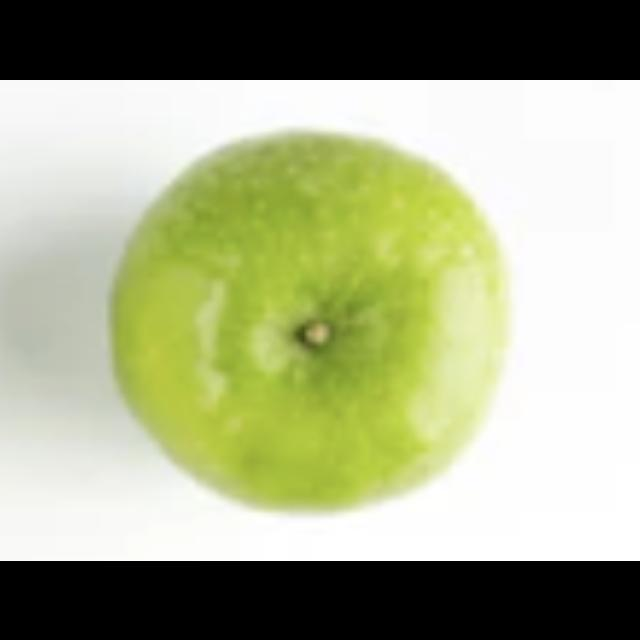Apel Segar: (104, 128, 518, 518)
